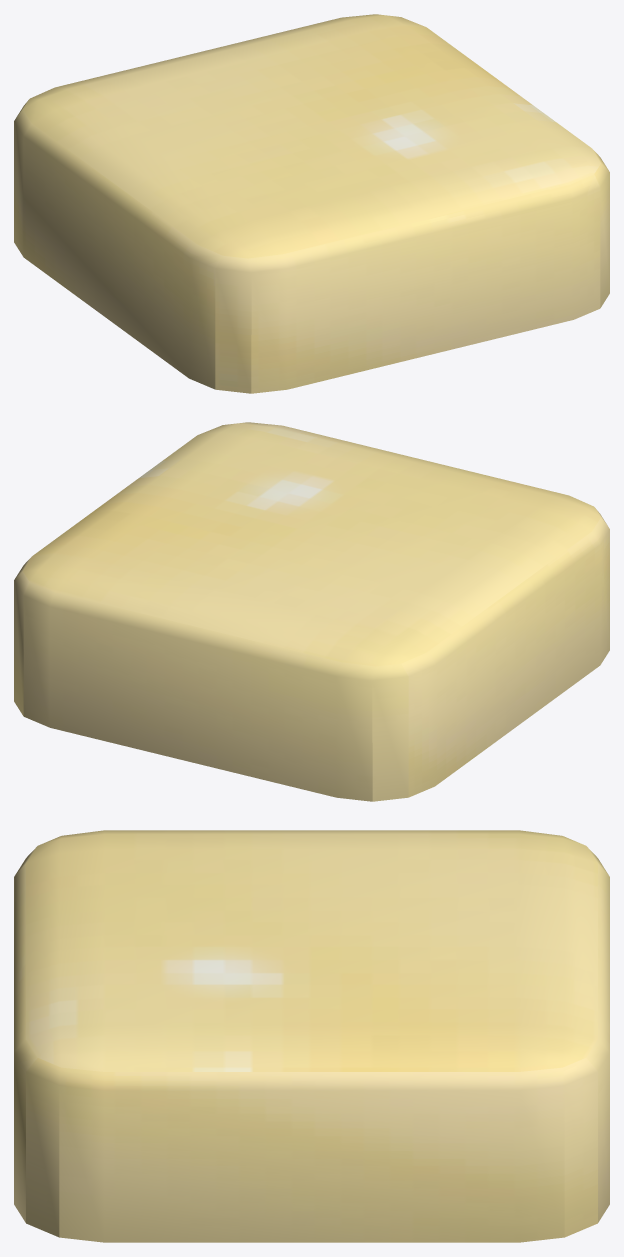
File: Butter.fbx
3 views of the same model, one above another, from view 1: azimuth 30°, elevation 25°; view 2: azimuth 150°, elevation 25°; view 3: azimuth 270°, elevation 25° (orthographic). The views are drawn at different scales.
Parts seen in each view (by area): view 1: Cube; view 2: Cube; view 3: Cube.
Part boxes in pixels (bbox=[...]): Cube: bbox=[14, 14, 609, 393]; Cube: bbox=[14, 422, 609, 801]; Cube: bbox=[14, 830, 609, 1242].
Size of the model in its own units: 2.41 by 0.7995 by 2.41.
1 material, 1 textured.
